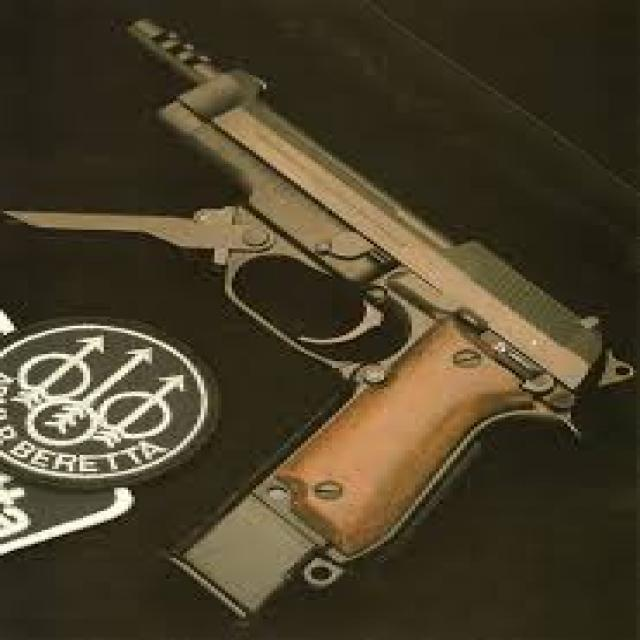semi automatic: (24, 7, 638, 627)
